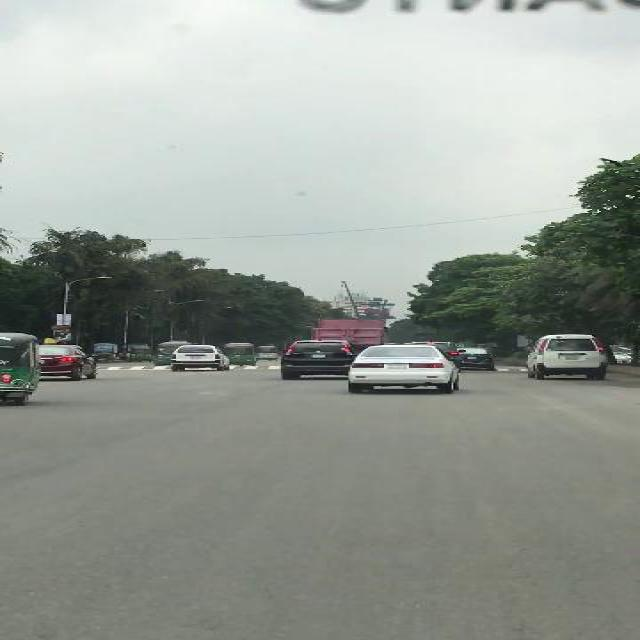vehicle: (351, 347, 445, 395), (524, 334, 609, 381), (281, 341, 357, 380), (38, 345, 99, 382), (311, 318, 389, 345), (16, 333, 39, 406), (171, 345, 222, 371), (462, 347, 496, 371), (225, 344, 257, 367), (129, 346, 154, 362), (257, 346, 278, 362)
